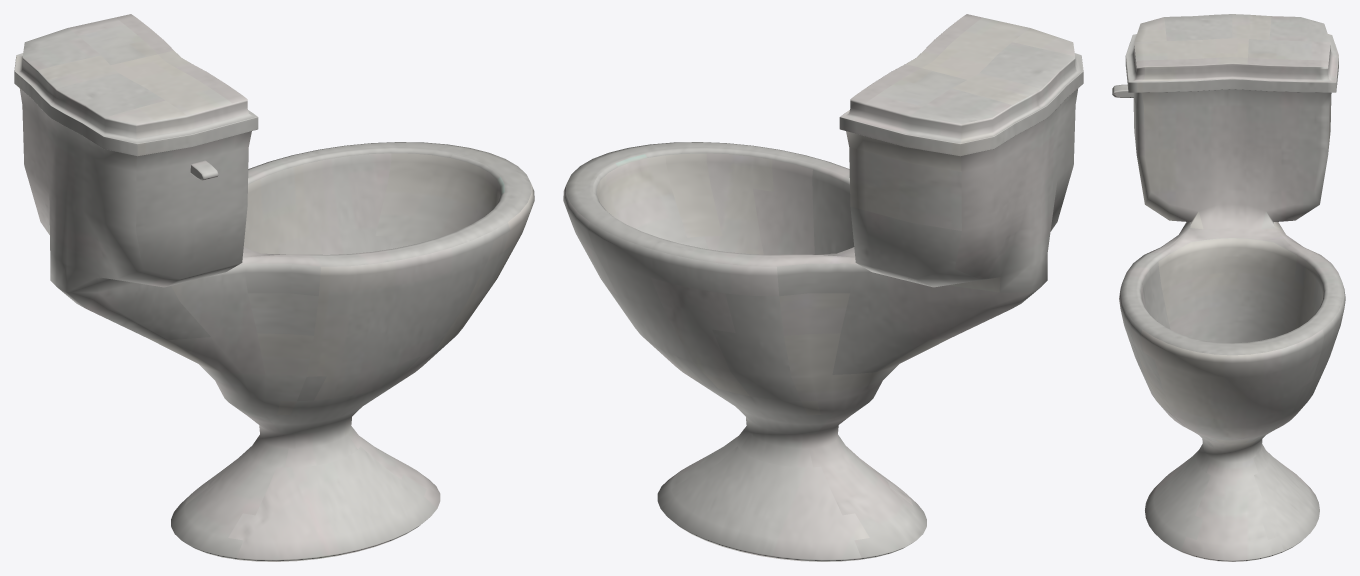
Rendered from Toilet.fbx.
3 renders of one model, left to right at view 1: azimuth 30°, elevation 25°; view 2: azimuth 150°, elevation 25°; view 3: azimuth 270°, elevation 25°, orthographic. The views are drawn at different scales.
Parts seen in each view (by area): view 1: pPipe2; view 2: pPipe2; view 3: pPipe2.
Boxes of the visible parts, x1,y1,x2,y2 form: pPipe2: (14,14,534,561); pPipe2: (563,14,1083,561); pPipe2: (1112,14,1345,561).
Bounding box in the file's own units: 26.81 × 26.55 × 14.03.
1 material, 1 textured.
